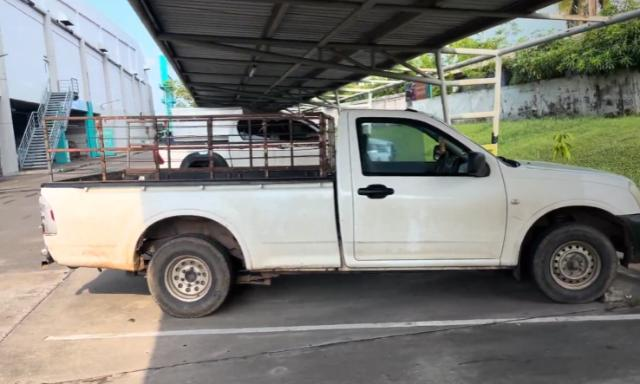pickup-truck: (40, 111, 639, 317)
